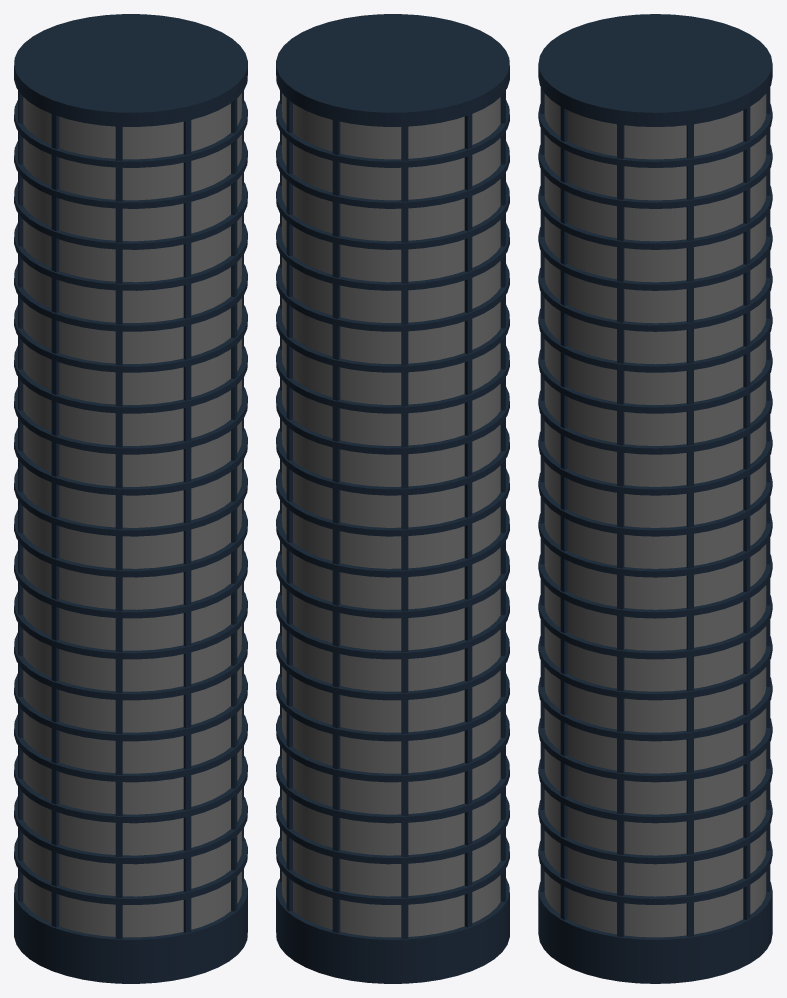
Rendered from Building_far_01.fbx.
3 renders of one model, left to right at view 1: azimuth 30°, elevation 25°; view 2: azimuth 150°, elevation 25°; view 3: azimuth 270°, elevation 25°, orthographic.
Visible parts, largest first — view 1: window, building1, building2; view 2: window, building1, building2; view 3: window, building1, building2.
Boxes of the visible parts, x1,y1,x2,y2 form: window: (23,93,241,937); building1: (14,14,247,983); building2: (18,90,243,938); window: (282,93,500,937); building1: (276,14,509,983); building2: (280,90,505,938); window: (544,94,766,937); building1: (538,14,772,983); building2: (540,87,770,936).
Bounding box in the file's own units: 951 × 3904 × 951.
